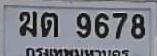6: (94, 12, 108, 37)
7: (112, 12, 126, 38)
8: (130, 13, 144, 38)
9: (76, 12, 90, 37)
A06: (18, 10, 36, 36)
A21: (40, 11, 57, 36)
